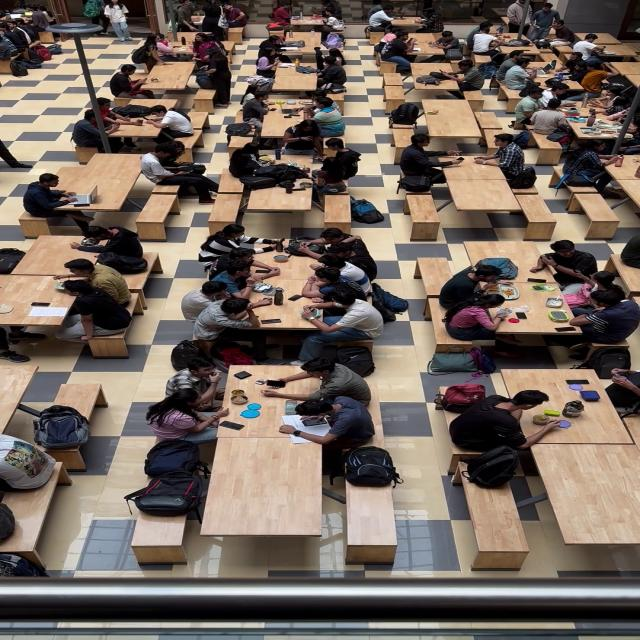Occupied: (497, 366, 640, 446), (19, 152, 153, 230), (210, 368, 320, 438), (225, 234, 334, 299), (446, 390, 549, 454), (260, 354, 374, 408), (229, 280, 345, 330), (283, 394, 377, 455), (469, 285, 575, 339), (430, 308, 551, 354), (83, 112, 196, 161), (4, 237, 131, 277), (142, 386, 228, 444), (136, 144, 219, 203), (472, 12, 562, 62), (494, 61, 584, 110), (51, 278, 126, 336), (559, 143, 631, 198), (239, 173, 316, 224), (550, 108, 629, 156), (162, 358, 229, 414), (196, 223, 282, 266), (303, 291, 385, 335), (58, 256, 133, 304), (438, 264, 510, 312), (192, 294, 276, 334), (564, 286, 636, 332), (460, 240, 551, 276), (242, 101, 320, 143), (397, 133, 461, 184), (202, 257, 282, 297), (531, 242, 600, 285), (73, 225, 147, 264), (70, 108, 132, 152), (422, 100, 485, 143), (298, 256, 370, 292), (412, 24, 472, 66), (475, 133, 527, 180), (446, 296, 513, 332), (173, 421, 223, 469), (217, 363, 311, 388), (226, 141, 282, 182), (511, 85, 563, 128), (436, 56, 493, 95), (294, 228, 365, 259), (49, 382, 108, 418), (140, 105, 195, 143), (200, 48, 234, 108), (139, 60, 198, 94), (278, 119, 328, 159), (266, 13, 315, 52), (302, 98, 348, 139), (577, 82, 632, 116), (270, 61, 322, 95), (378, 30, 418, 74), (496, 37, 556, 65), (108, 64, 154, 100), (0, 21, 40, 59), (427, 348, 480, 374), (143, 33, 187, 64), (240, 91, 277, 127), (369, 284, 410, 316), (586, 38, 640, 62), (198, 0, 229, 41), (97, 252, 151, 275), (253, 45, 288, 80), (313, 57, 348, 91), (472, 257, 520, 281), (561, 166, 609, 189), (326, 151, 362, 181), (603, 380, 640, 409), (255, 164, 308, 184), (469, 27, 505, 56), (348, 197, 385, 225), (190, 33, 224, 63), (388, 102, 424, 130), (376, 17, 431, 35), (503, 164, 539, 190), (174, 0, 200, 34), (396, 172, 435, 194), (220, 2, 250, 29), (0, 247, 28, 275), (237, 174, 280, 192), (285, 240, 328, 258), (366, 4, 396, 29), (111, 104, 153, 120), (544, 127, 574, 149), (415, 13, 446, 34), (268, 2, 293, 28), (166, 106, 195, 126), (224, 121, 258, 138), (193, 65, 216, 90), (321, 30, 347, 52), (376, 37, 400, 59), (249, 77, 276, 96), (477, 60, 501, 81), (517, 81, 545, 99), (130, 44, 154, 65), (319, 0, 344, 20), (32, 8, 58, 27), (0, 34, 20, 58), (456, 77, 486, 93), (174, 162, 208, 176), (510, 130, 533, 150), (316, 180, 348, 194), (322, 15, 348, 32), (8, 58, 30, 78), (266, 34, 294, 49), (14, 56, 44, 70), (429, 69, 461, 82), (317, 82, 348, 95), (24, 47, 46, 65), (32, 44, 54, 61), (414, 74, 444, 86), (256, 136, 281, 150), (178, 20, 199, 34), (444, 46, 465, 60), (244, 75, 272, 85), (213, 41, 230, 57), (295, 65, 320, 75), (44, 43, 64, 55), (502, 38, 528, 47), (280, 40, 304, 48), (536, 40, 550, 49), (231, 20, 245, 27)
Unoccupied: (198, 436, 324, 539), (528, 439, 640, 547), (457, 468, 533, 570), (0, 461, 64, 574), (342, 476, 400, 566), (123, 468, 210, 520), (128, 504, 192, 565), (0, 366, 41, 443), (141, 438, 210, 480), (457, 445, 521, 490), (338, 445, 403, 489), (32, 404, 92, 451), (569, 192, 624, 238), (510, 191, 559, 239), (448, 180, 520, 210), (133, 192, 183, 234), (403, 192, 442, 238), (206, 185, 245, 225), (0, 552, 52, 578), (473, 112, 508, 148), (191, 89, 217, 113), (584, 32, 626, 46), (227, 26, 244, 44)
